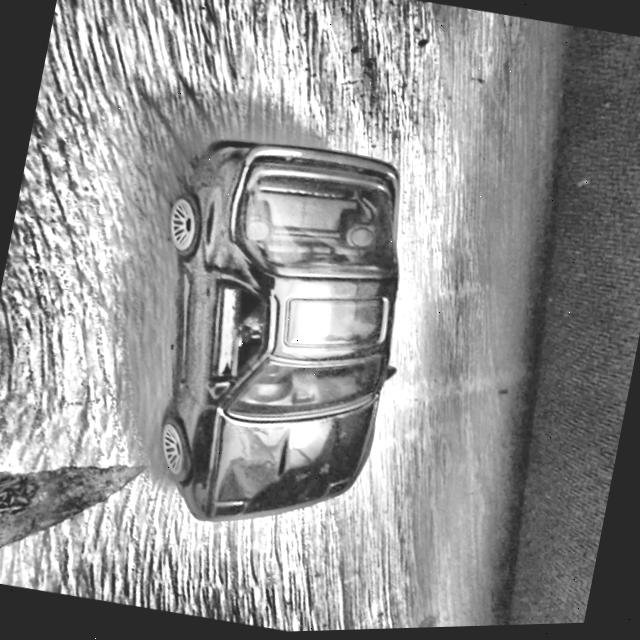car: (111, 121, 436, 555)
